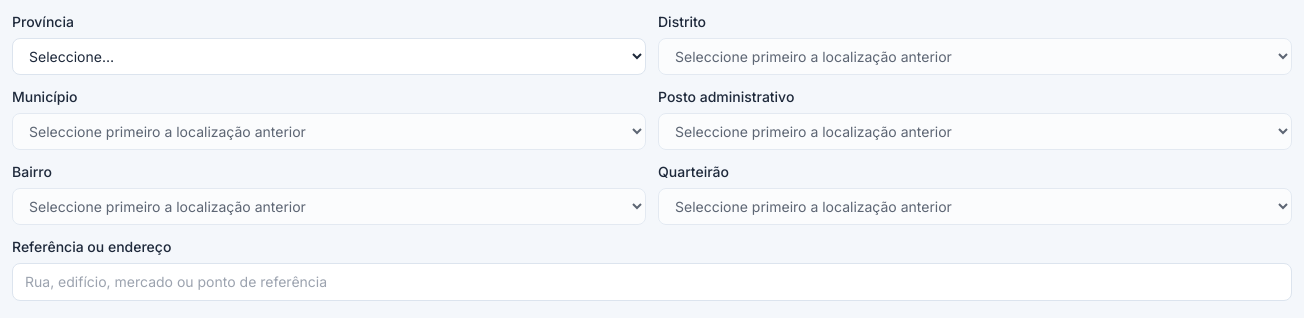
Test: selecção geográfica dependente › carrega opções reais por nível e limpa distritos e descendentes ao trocar de província
Select "Sofala" in the dropdown labelled "Província" at (329, 56), box [12,38,646,75]
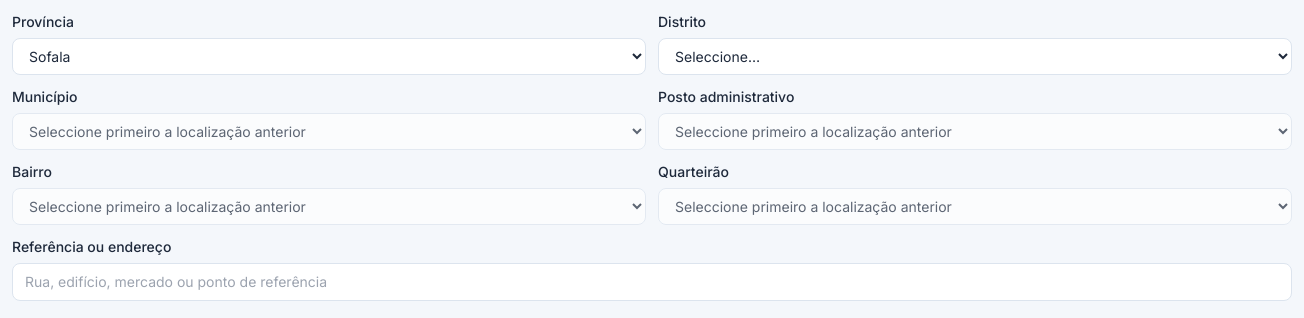
Select "Beira" in the dropdown labelled "Distrito" at (975, 56), box [658,38,1292,75]
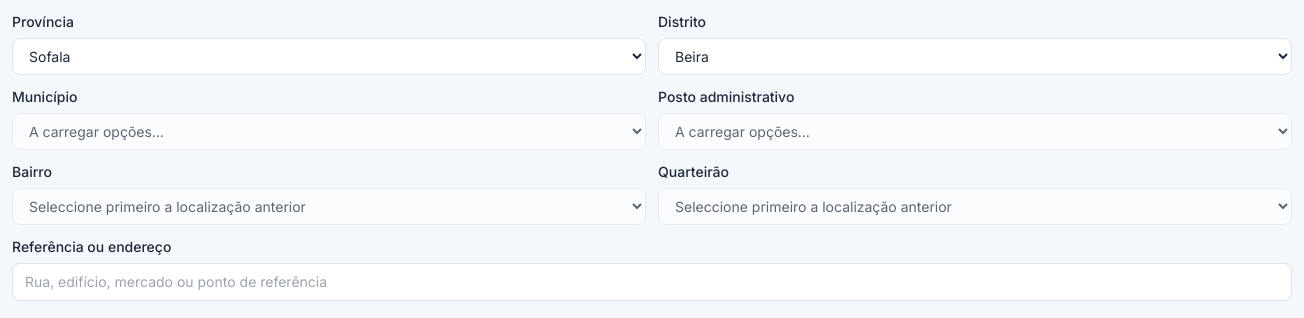
Select "Gaza" in the dropdown labelled "Província" at (329, 56), box [12,38,646,75]
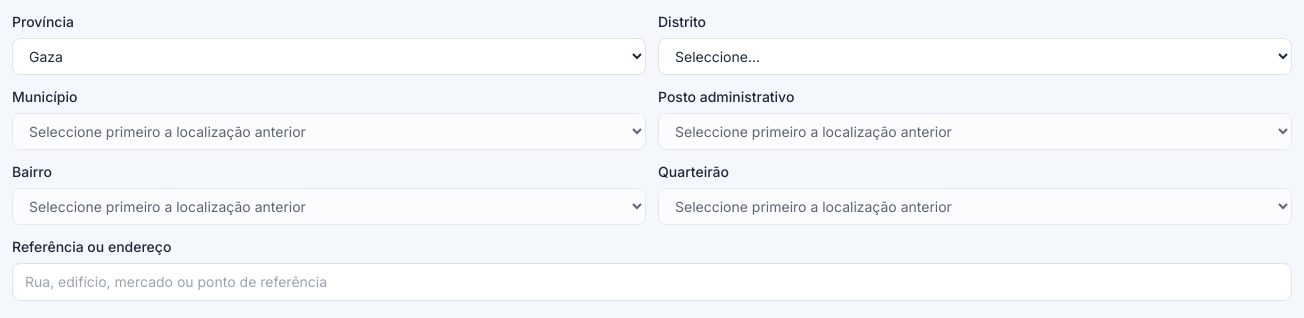
Expected: the dropdown labelled "Município" shows "Seleccione primeiro a localização anterior", [12,113,646,150]
